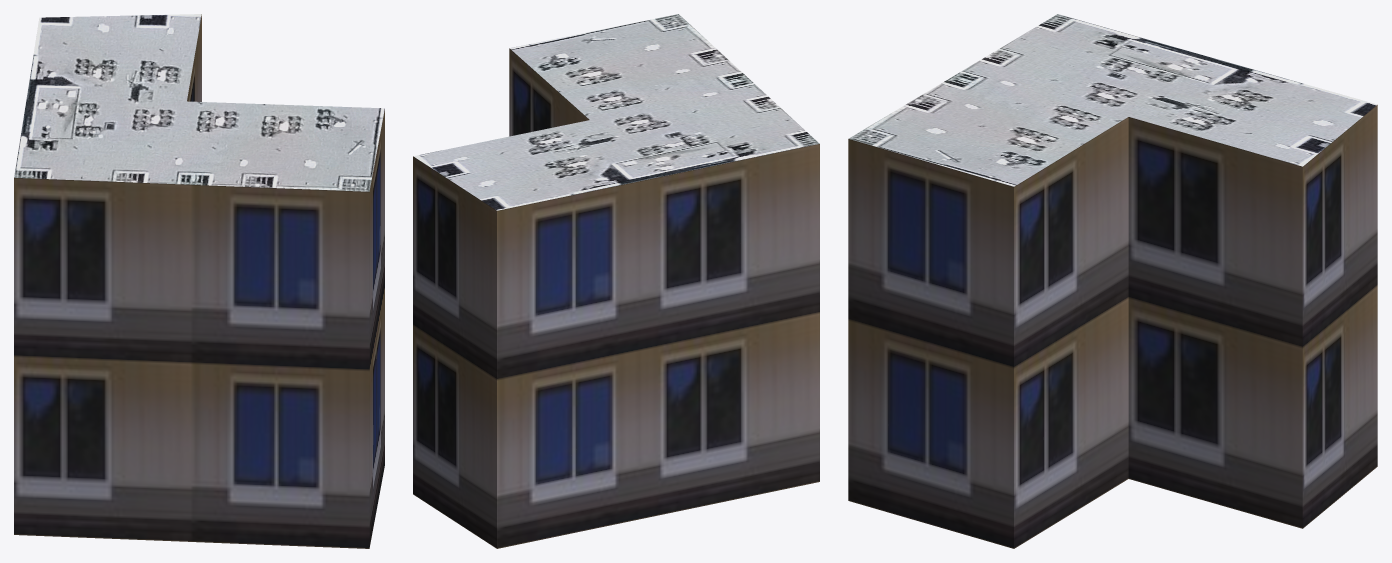
The model's file is ResTex__3482.fbx.
3 renders of one model, left to right at view 1: azimuth 30°, elevation 25°; view 2: azimuth 150°, elevation 25°; view 3: azimuth 270°, elevation 25°, orthographic. The views are drawn at different scales.
Parts seen in each view (by area): view 1: CityEngineMaterial_5_m, CityEngineMaterial_4_m; view 2: CityEngineMaterial_5_m, CityEngineMaterial_4_m; view 3: CityEngineMaterial_5_m, CityEngineMaterial_4_m.
Part boxes in pixels (<box>): CityEngineMaterial_5_m: <box>14,14,384,548</box>; CityEngineMaterial_4_m: <box>14,14,384,191</box>; CityEngineMaterial_5_m: <box>413,48,819,548</box>; CityEngineMaterial_4_m: <box>413,14,819,210</box>; CityEngineMaterial_5_m: <box>848,105,1377,548</box>; CityEngineMaterial_4_m: <box>849,14,1377,186</box>.
Size of the model in its own units: 6.14 by 6 by 7.95.
Materials: 2 (2 with a texture image).
